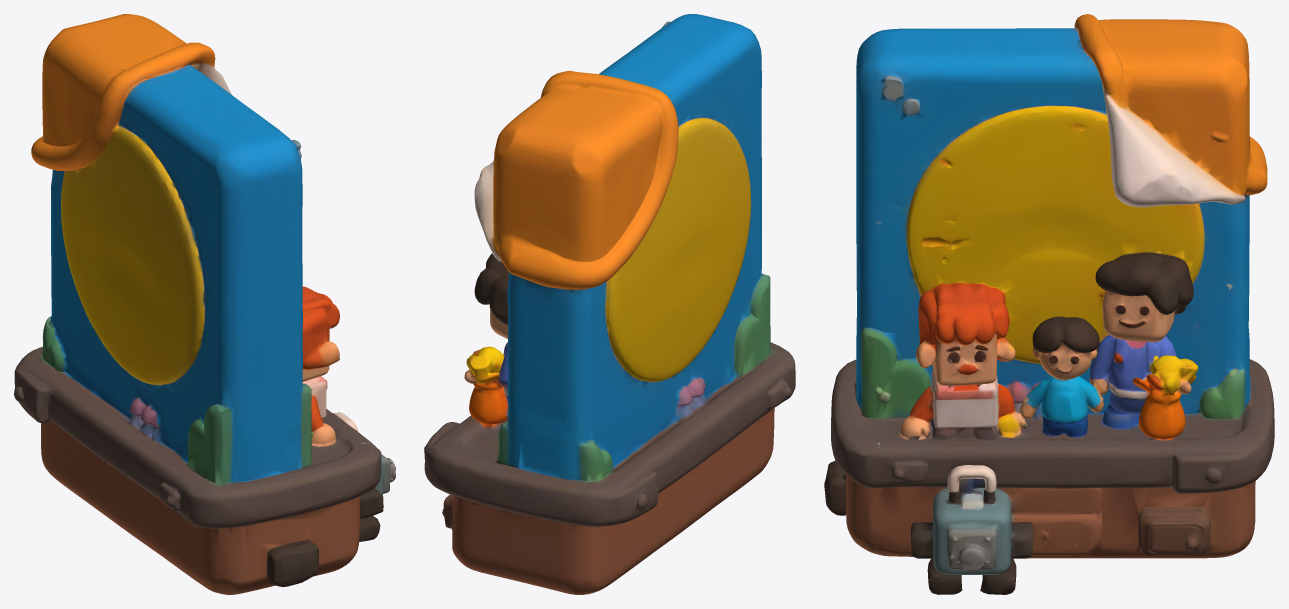
Rendered from poster_1.glb.
3 views of the same model, side by side, from view 1: azimuth 30°, elevation 25°; view 2: azimuth 150°, elevation 25°; view 3: azimuth 270°, elevation 25° (orthographic). The views are drawn at different scales.
Parts seen in each view (by area): view 1: tripo_node_016628b9-1bf4-47ab-87e4-cbc4e2d8bd70; view 2: tripo_node_016628b9-1bf4-47ab-87e4-cbc4e2d8bd70; view 3: tripo_node_016628b9-1bf4-47ab-87e4-cbc4e2d8bd70.
Boxes of the visible parts, <box> form: tripo_node_016628b9-1bf4-47ab-87e4-cbc4e2d8bd70: <box>14,14,395,594</box>; tripo_node_016628b9-1bf4-47ab-87e4-cbc4e2d8bd70: <box>424,14,795,594</box>; tripo_node_016628b9-1bf4-47ab-87e4-cbc4e2d8bd70: <box>824,14,1274,594</box>.
Bounding box in the file's own units: 0.5857 × 0.9799 × 0.8102.
1 material, 1 textured.
